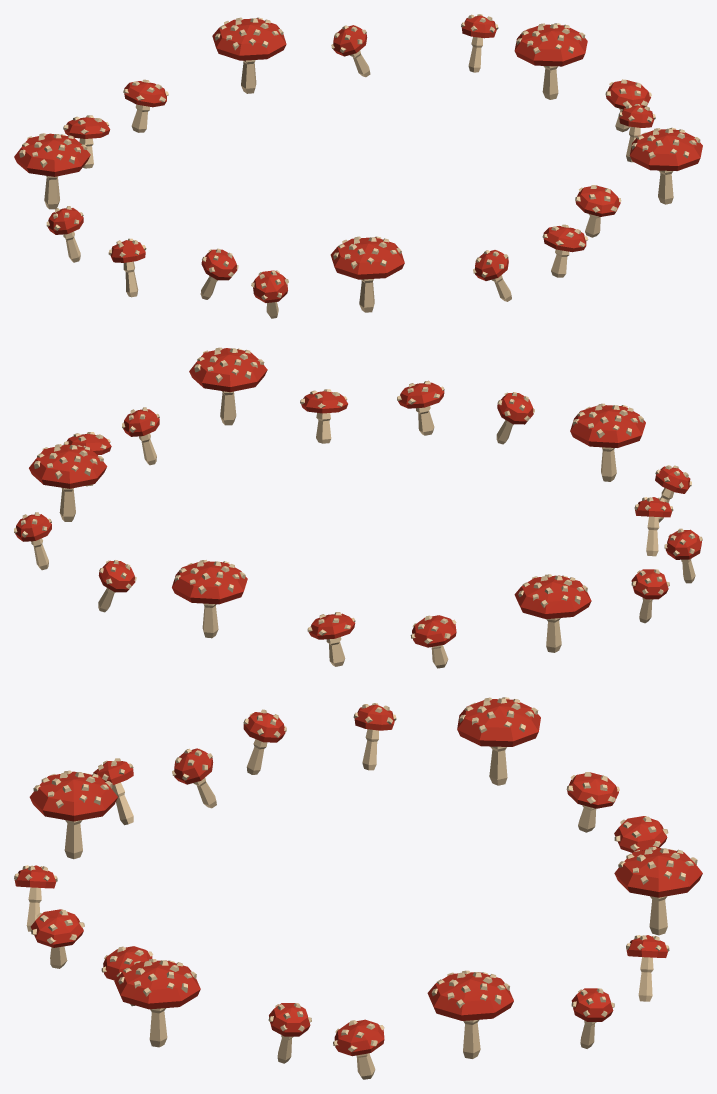
The model's file is mushroom_circle_New.glb.
3 renders of one model, top to bottom at view 1: azimuth 30°, elevation 25°; view 2: azimuth 150°, elevation 25°; view 3: azimuth 270°, elevation 25°, orthographic. The views are drawn at different scales.
Visible parts, largest first — view 1: SM_Prop_Mushroom_Sparse_05.004; view 2: SM_Prop_Mushroom_Sparse_05.004; view 3: SM_Prop_Mushroom_Sparse_05.004.
Boxes of the visible parts, box(x1,y1,x2,y2) form: SM_Prop_Mushroom_Sparse_05.004: box(14, 14, 702, 318); SM_Prop_Mushroom_Sparse_05.004: box(14, 347, 702, 668); SM_Prop_Mushroom_Sparse_05.004: box(14, 697, 702, 1079).
Bounding box in the file's own units: 1.8 × 0.2165 × 1.58.
Materials: 1 (1 with a texture image).
